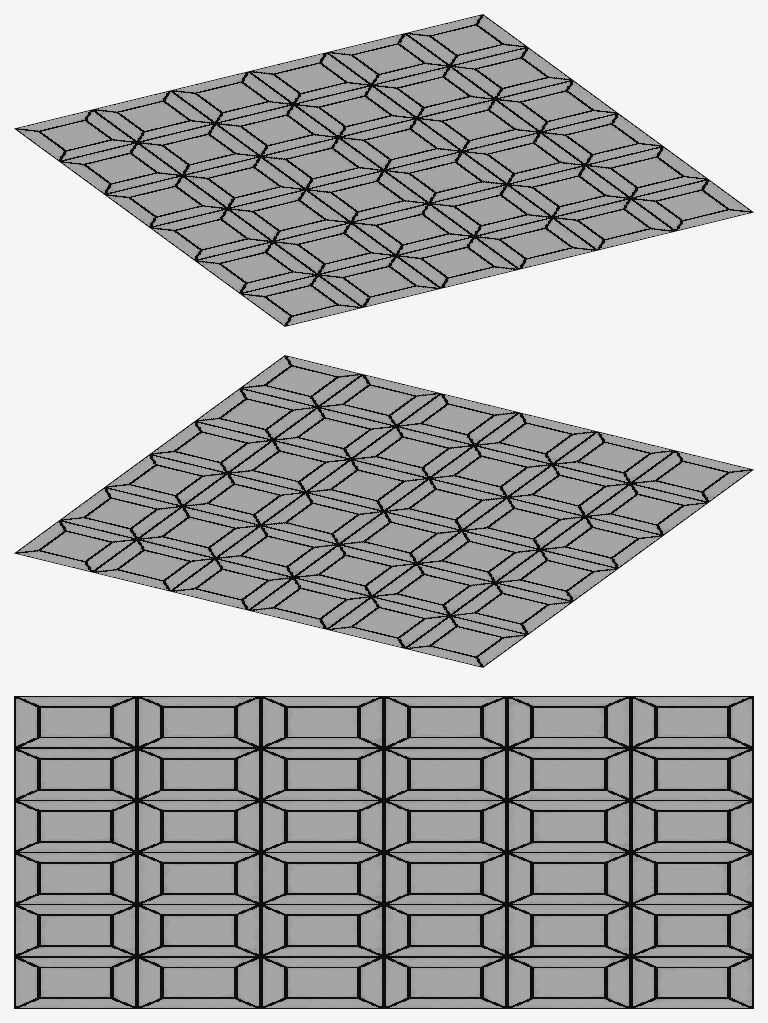
Rendered from Floor 1.fbx.
3 renders of one model, top to bottom at view 1: azimuth 30°, elevation 25°; view 2: azimuth 150°, elevation 25°; view 3: azimuth 270°, elevation 25°, orthographic. The views are drawn at different scales.
Parts seen in each view (by area): view 1: Plane; view 2: Plane; view 3: Plane.
Part boxes in pixels (<box>): Plane: <box>14,14,753,326</box>; Plane: <box>14,355,753,667</box>; Plane: <box>14,696,753,1008</box>.
Bounding box in the file's own units: 20 × 20 × 0.
